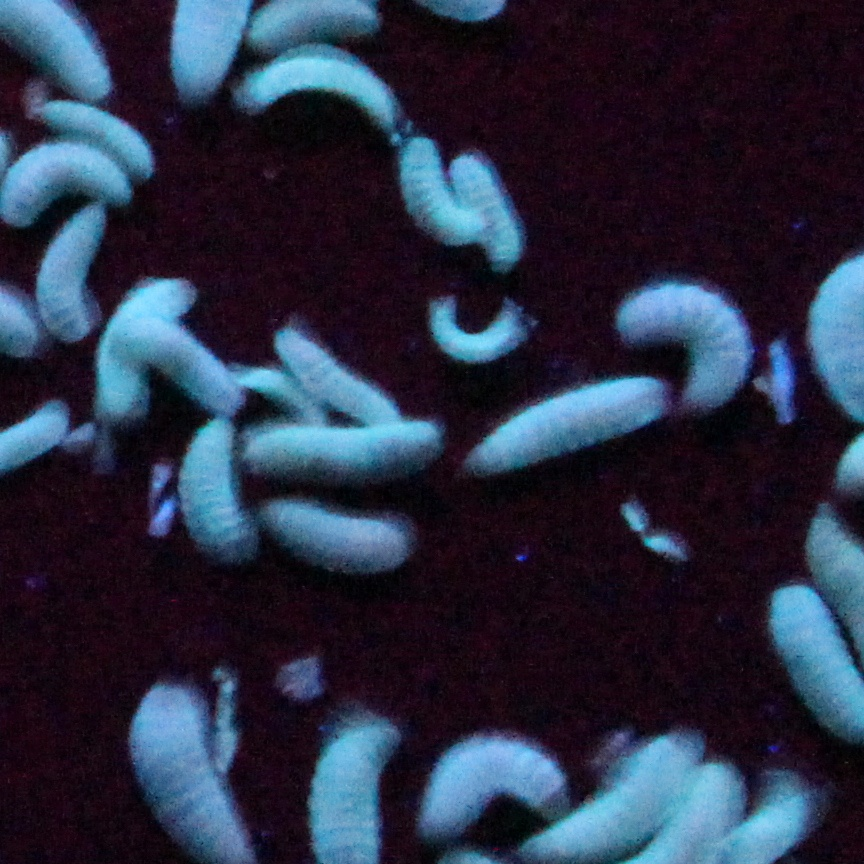larve: (470, 378, 664, 471), (535, 751, 683, 855), (626, 282, 746, 397), (422, 737, 557, 835), (248, 425, 435, 485), (99, 278, 175, 422), (247, 55, 393, 127), (279, 331, 400, 417), (264, 504, 409, 571), (2, 152, 127, 229), (179, 421, 246, 559), (139, 316, 238, 407), (457, 158, 524, 270), (44, 212, 100, 345), (47, 95, 153, 164), (430, 297, 535, 364), (403, 137, 462, 245)
